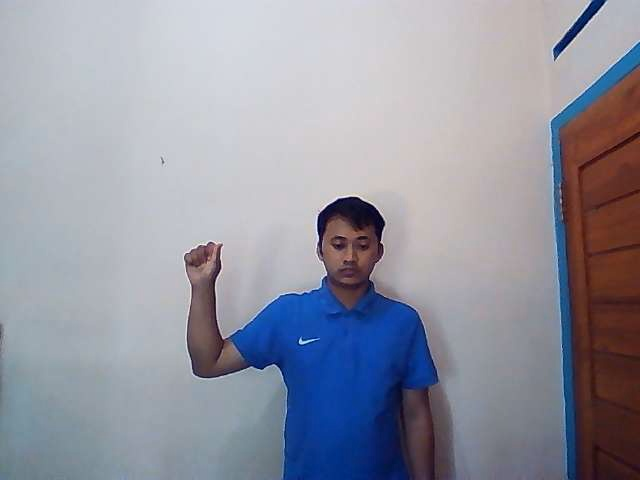A: (183, 240, 224, 287)
